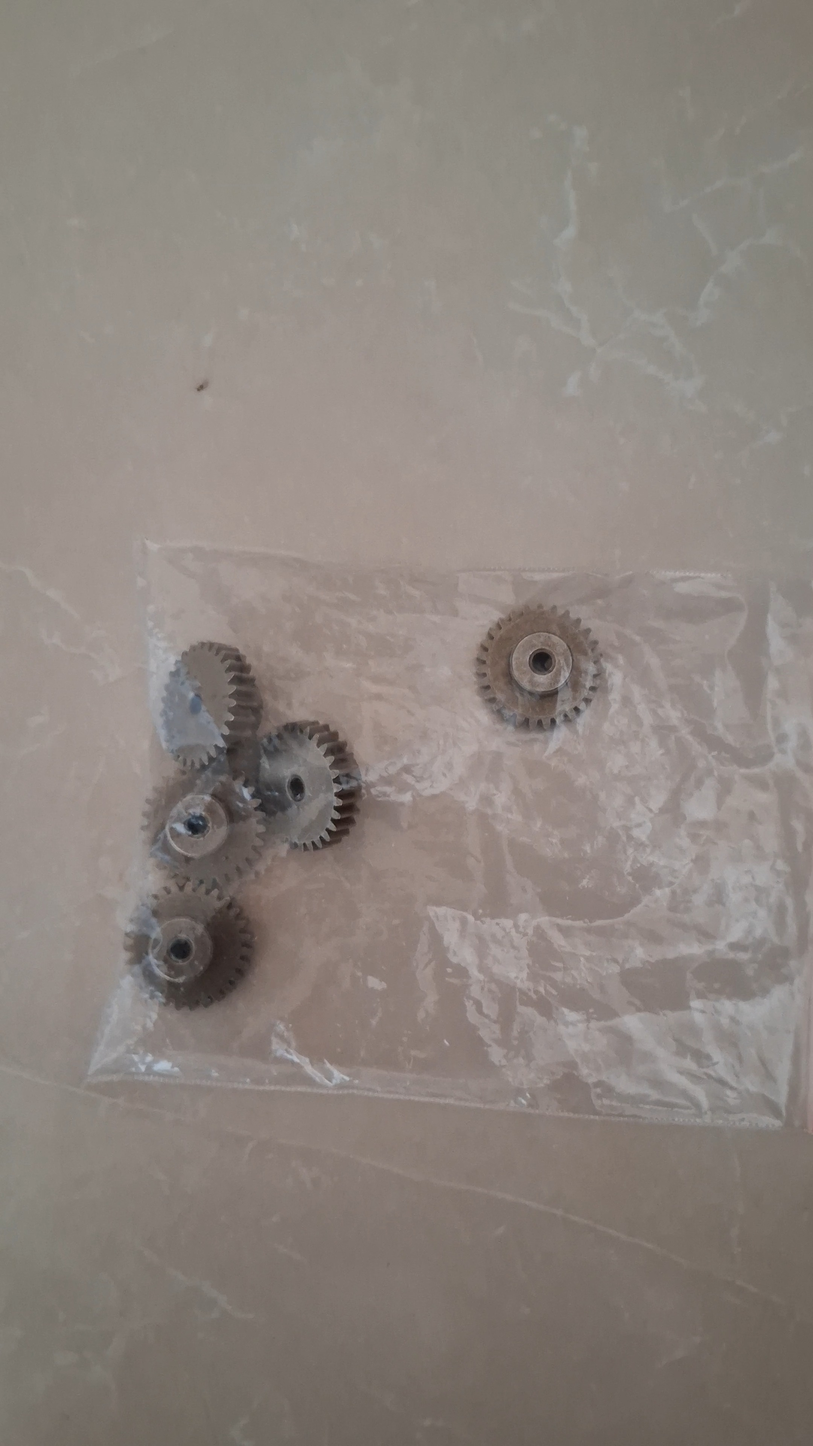spur gear: (125, 882, 253, 1008), (145, 762, 266, 891), (477, 605, 600, 728), (256, 722, 360, 850), (161, 642, 261, 767)
